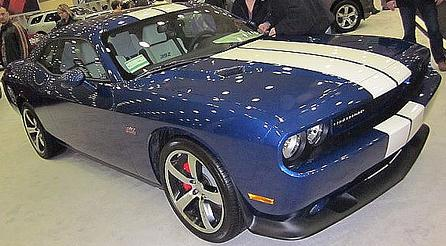front_view: (267, 47, 446, 227)
headlight: (264, 112, 346, 178)
side_glass: (38, 34, 112, 92)
